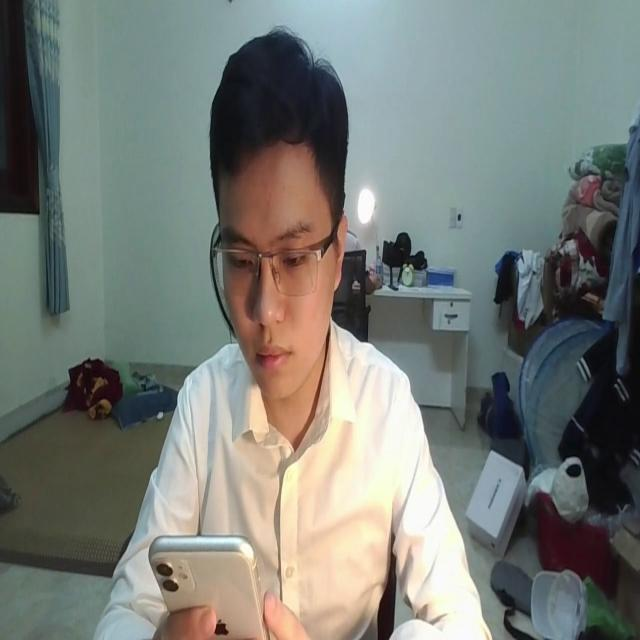phone: (149, 521, 269, 640)
student: (102, 26, 491, 640)
